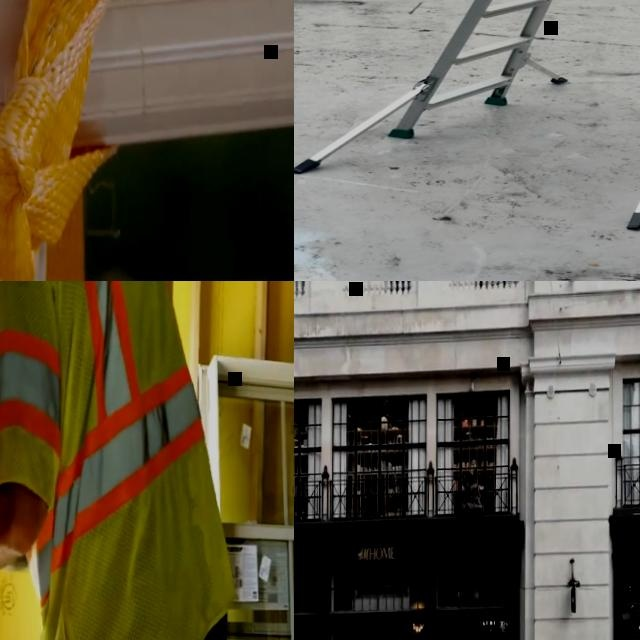Person: (0, 281, 232, 640)
Safety Vest: (0, 281, 240, 640)
